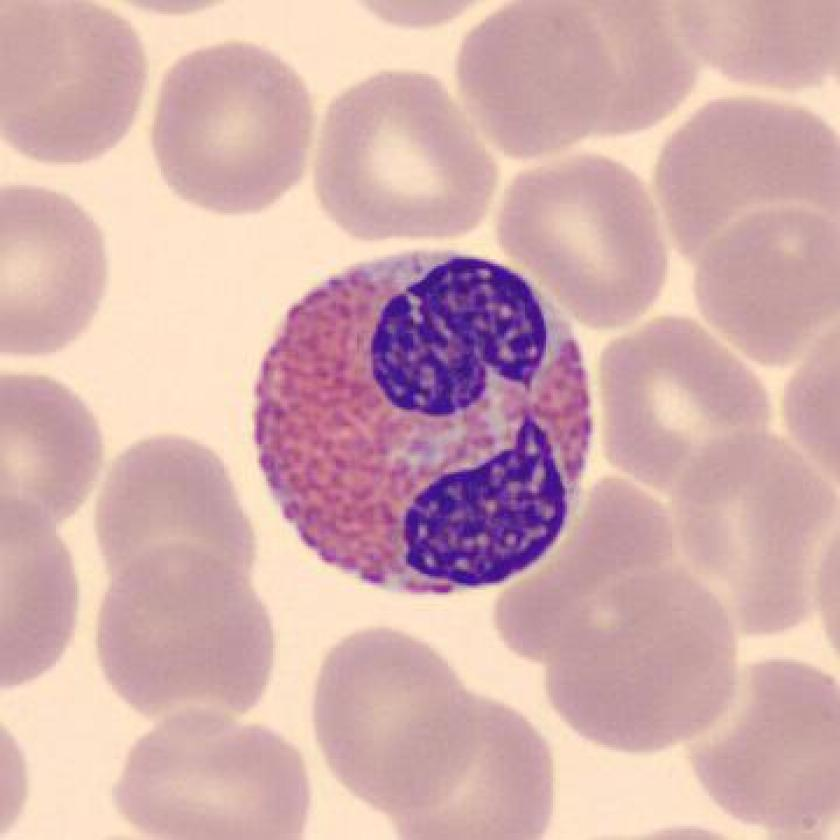eosinophil: (241, 240, 610, 610)
